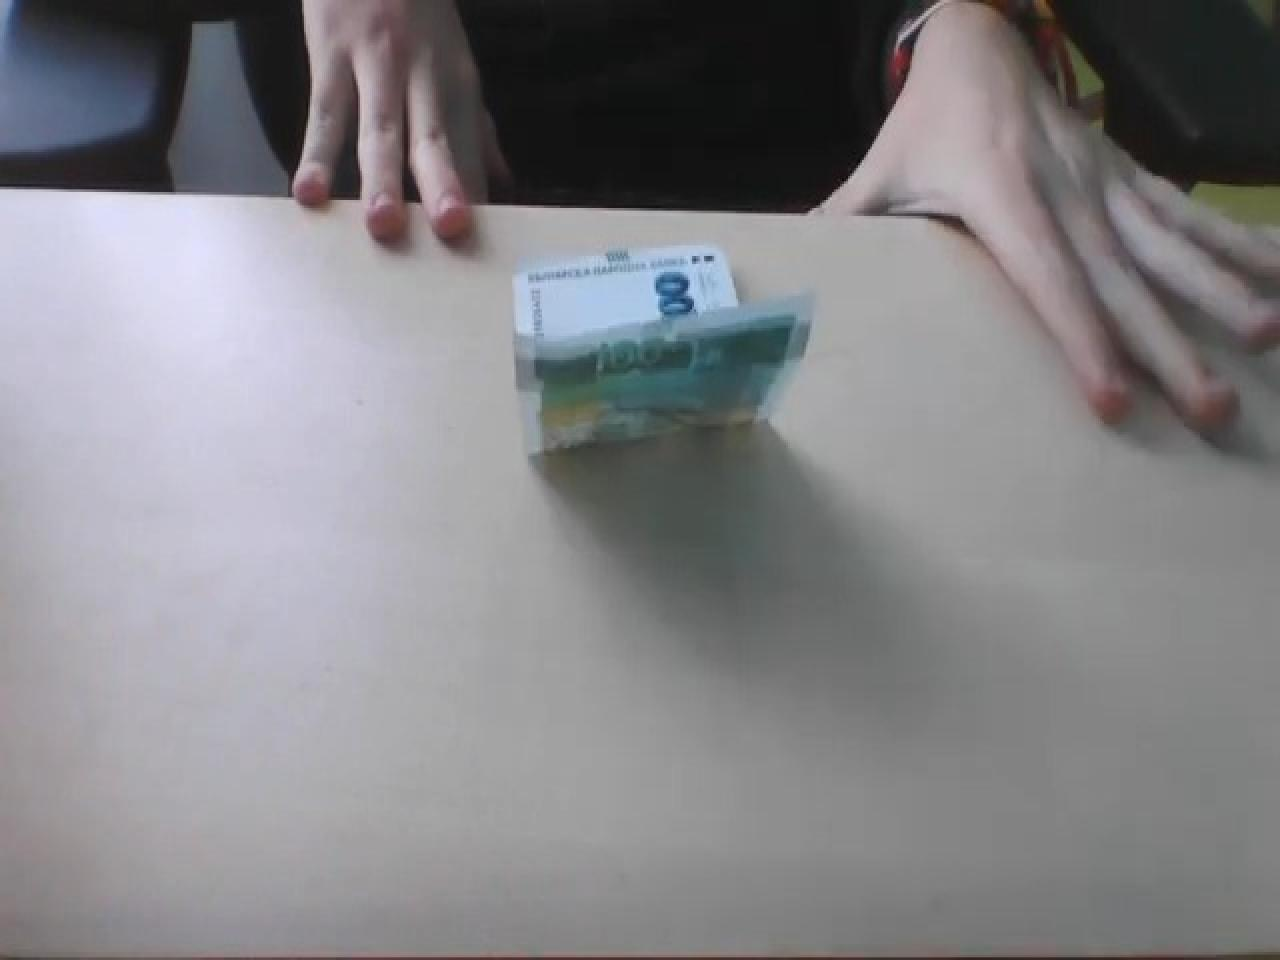100leva: (508, 240, 814, 459)
